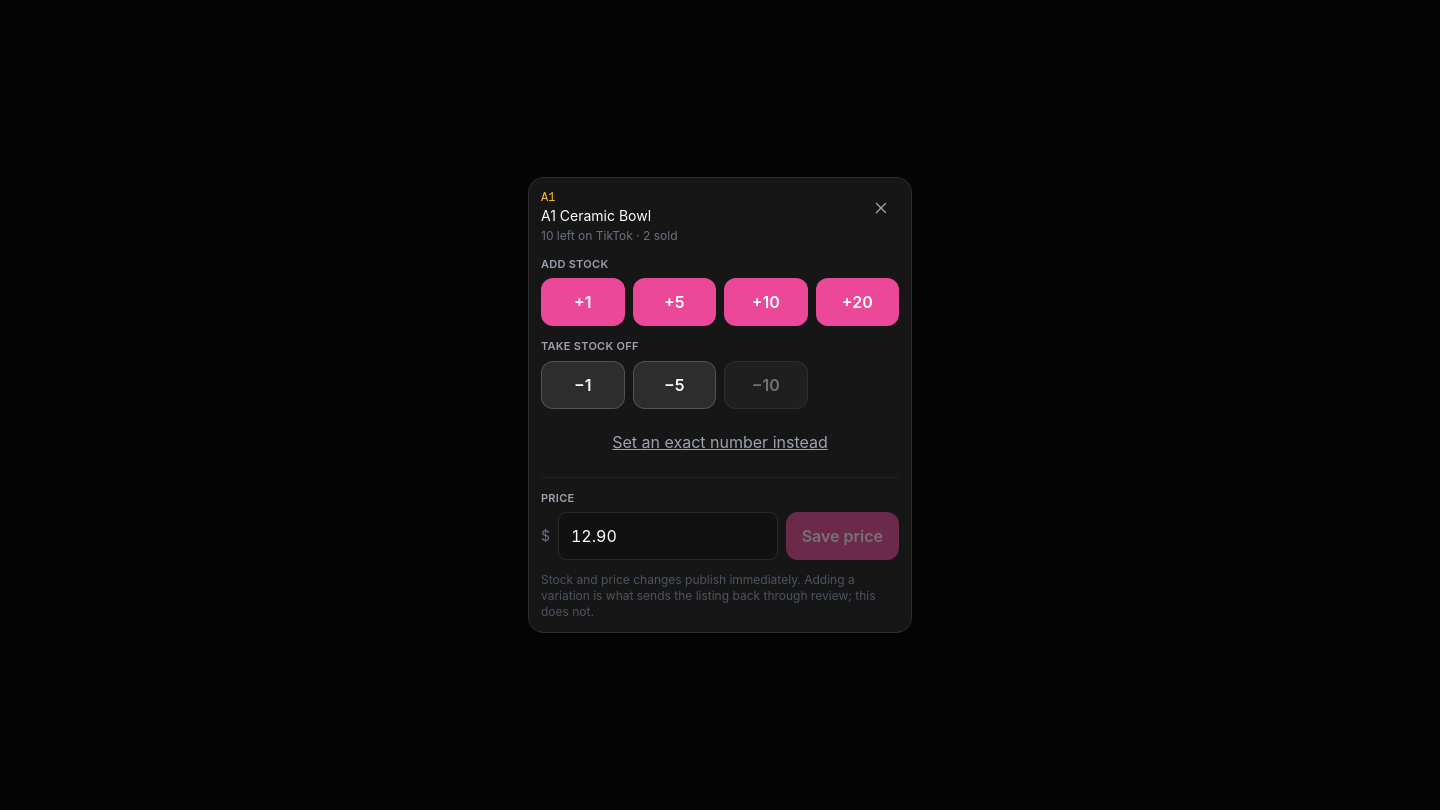
it: stock › a backend that failed partway is treated like a lost reply: looked at, never resent
Click the button "+10". click: (766, 302)
box: [724,278,808,326]
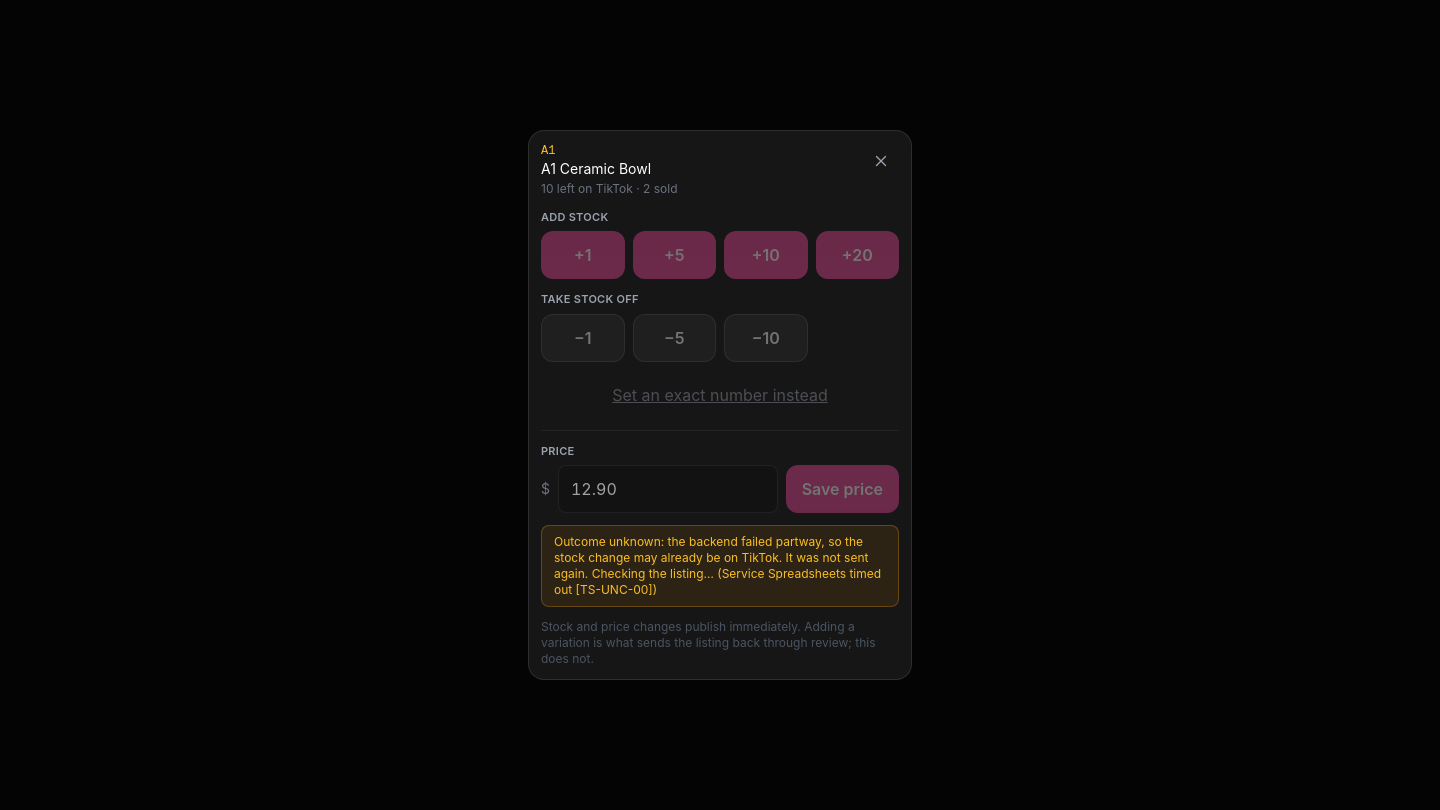
Expected: the button "+10" is disabled, [724,231,808,279]
